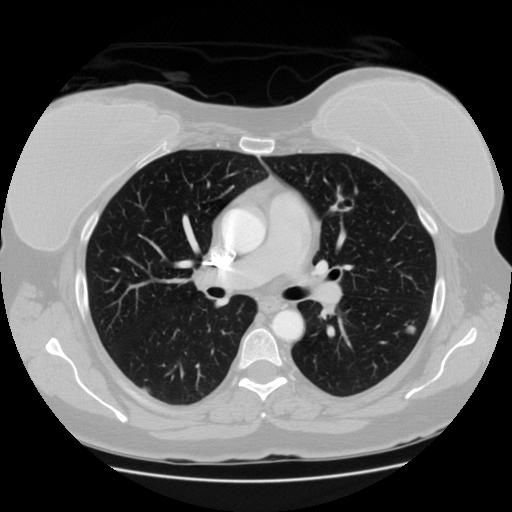nodule: (403, 322, 419, 338)
